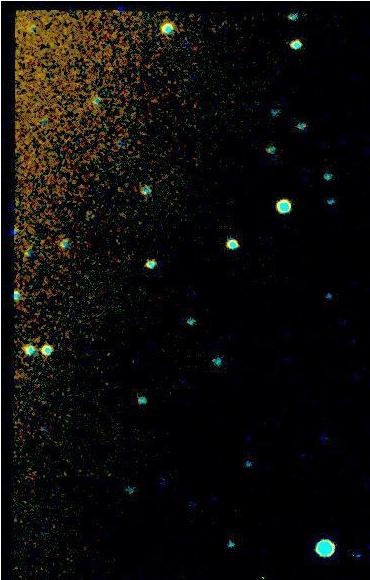star: (15, 235, 45, 265)
